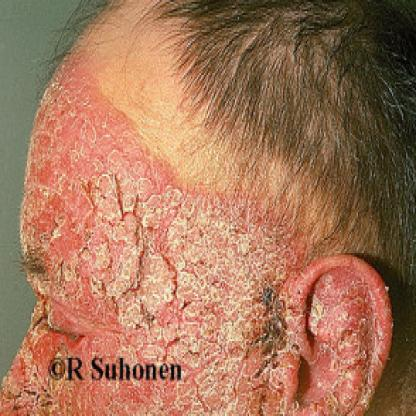Psoriasis: (23, 63, 305, 409)
